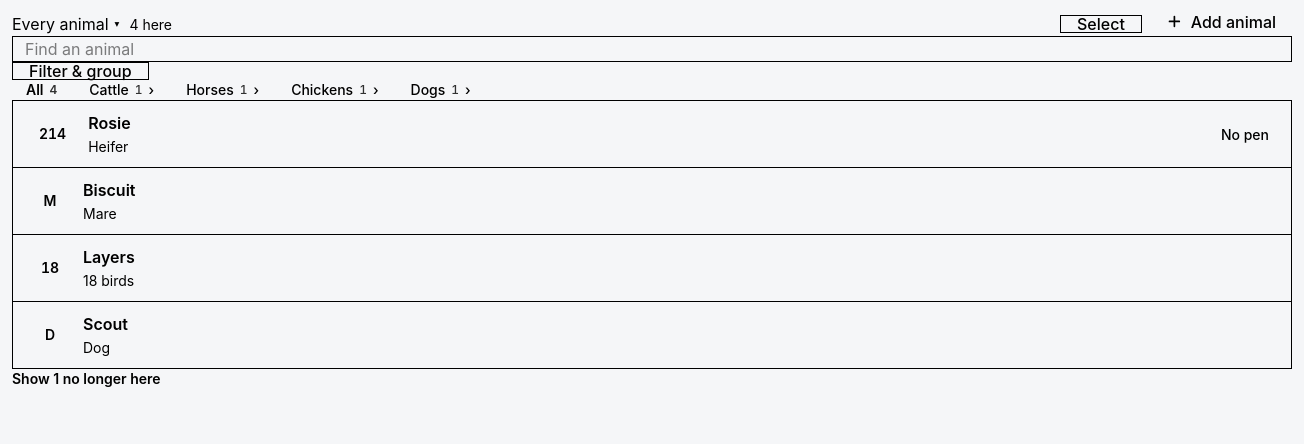
Test case: the Animals list › selects several and hands them to the Log
The width and height of the screenshot is (1304, 444).
Step 1. Click the button "Select" → (1101, 24), box x1=1060 y1=15 x2=1142 y2=33
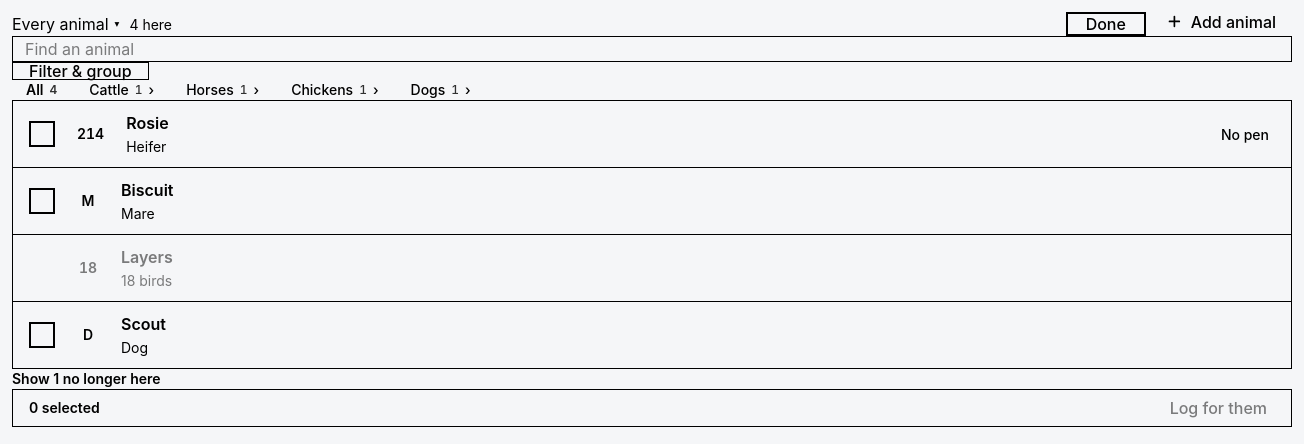
Step 2. Click the checkbox labelled "Rosie" → (147, 123), box x1=13 y1=101 x2=1291 y2=167
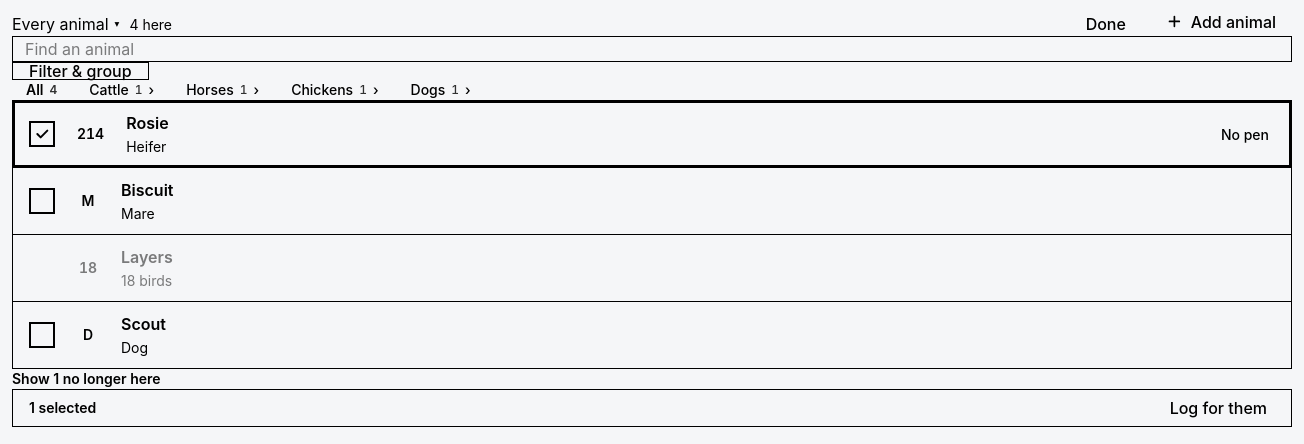
Step 3. Click the checkbox labelled "Biscuit" → (147, 190), box x1=13 y1=168 x2=1291 y2=234
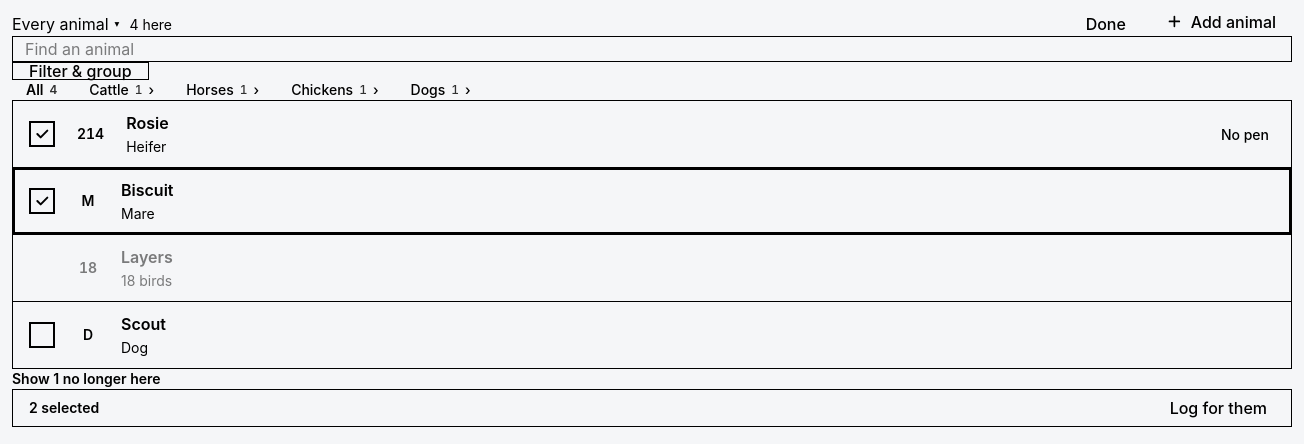
Now the text "2 selected" is shown, box x1=29 y1=398 x2=99 y2=418
